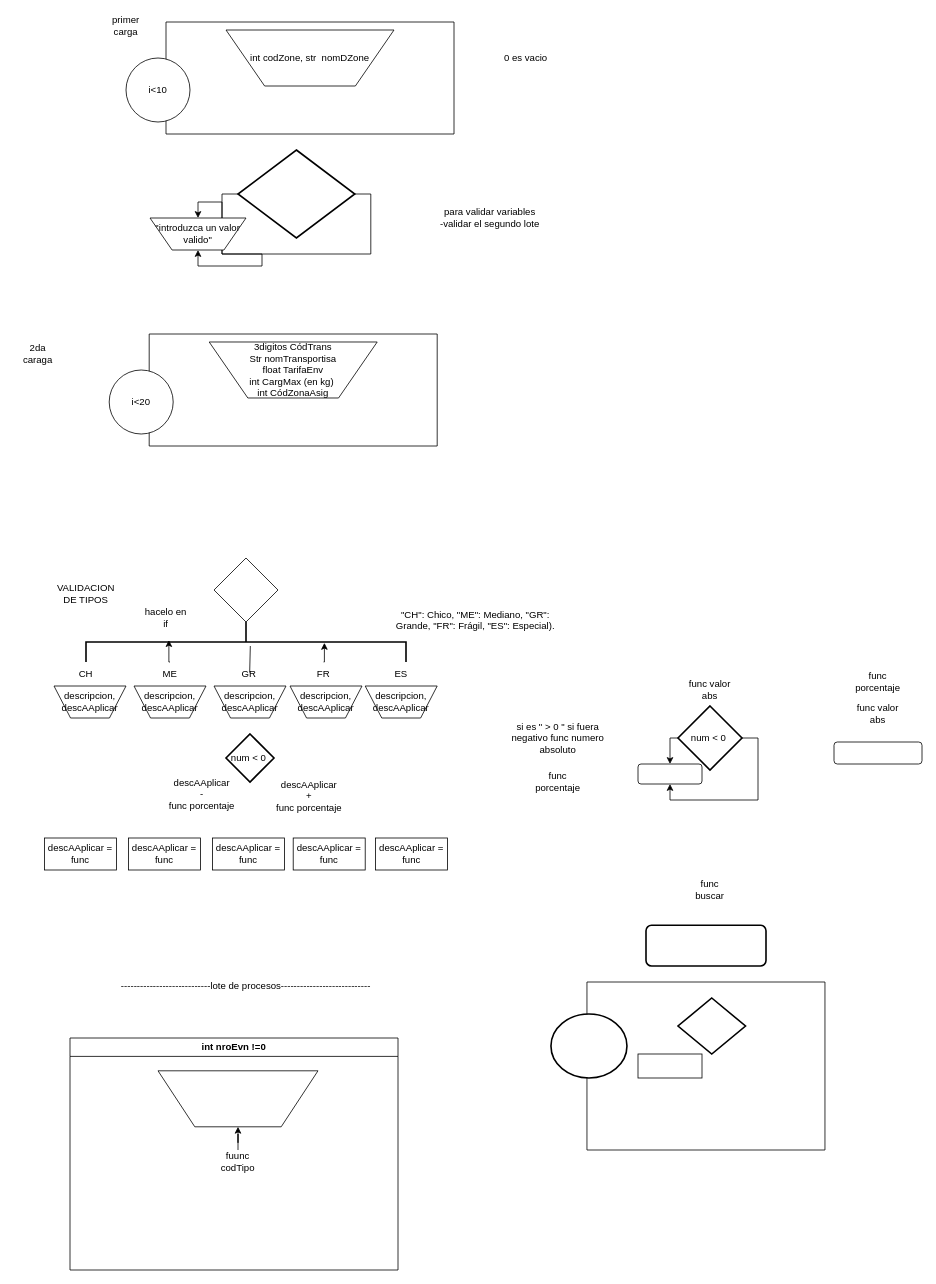
The diagram is 936 pixels wide and 1284 high, and some of its shapes have lost their labels. The shapes that lost their labels are listed below. From the top down, each one's centre as x and y in pixels, then its label:
(296,193): nomDZone == " " || variable == "" || variable == 0
(245,589): CódTipo
(877,752): (porcio/tarifa)*100
(669,773): num*-1
(705,945): int tamV = sizeof vec/ sizeof(vec[0]);
(588,1045): i>tamV
(711,1025): aBuscar == vec[i]
(669,1065): return i
(237,1098): CódTrans, PesoRealPack, códiClient, díaMesEnv
